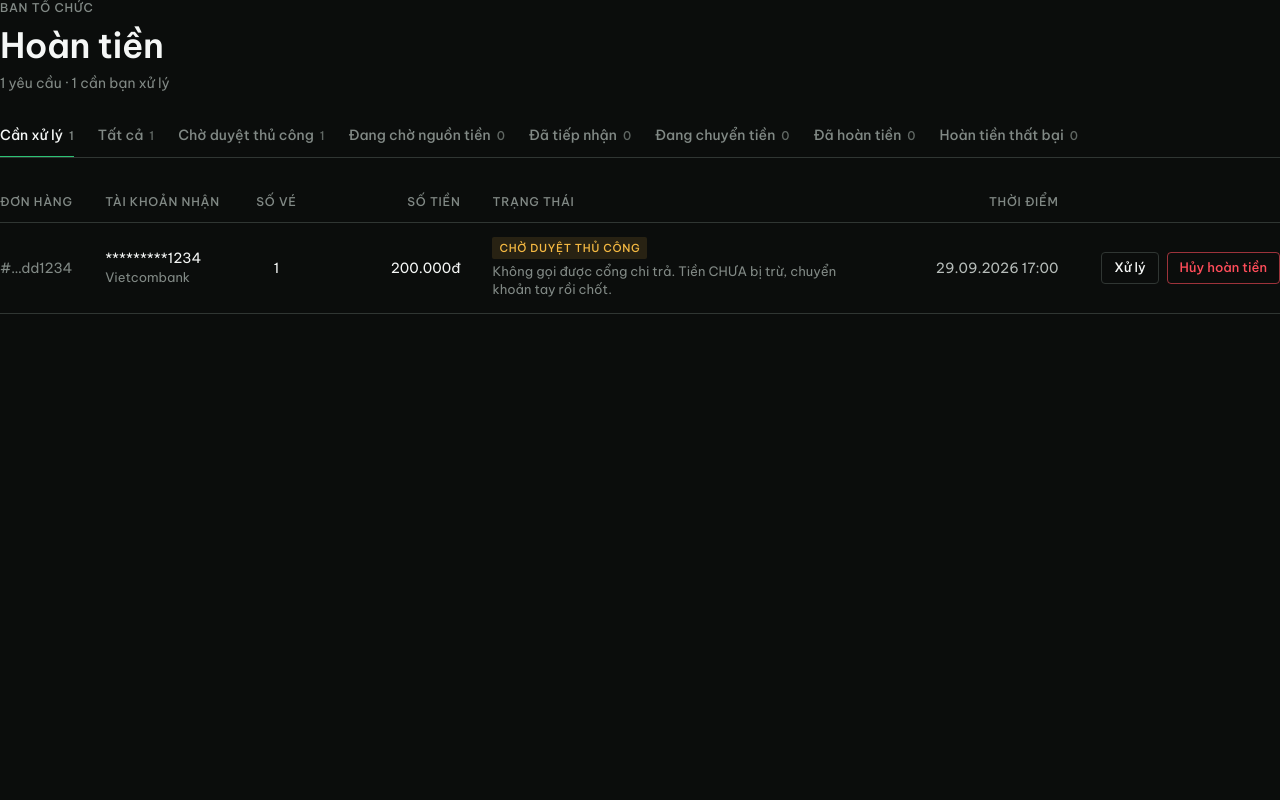
RefundsPage › refund chưa có tài khoản nhận: báo lỗi tử tế, vẫn chốt được
The image size is (1280, 800).
Click the button "Xử lý".
click(1130, 268)  # box top-left (1101, 252), bottom-right (1159, 284)
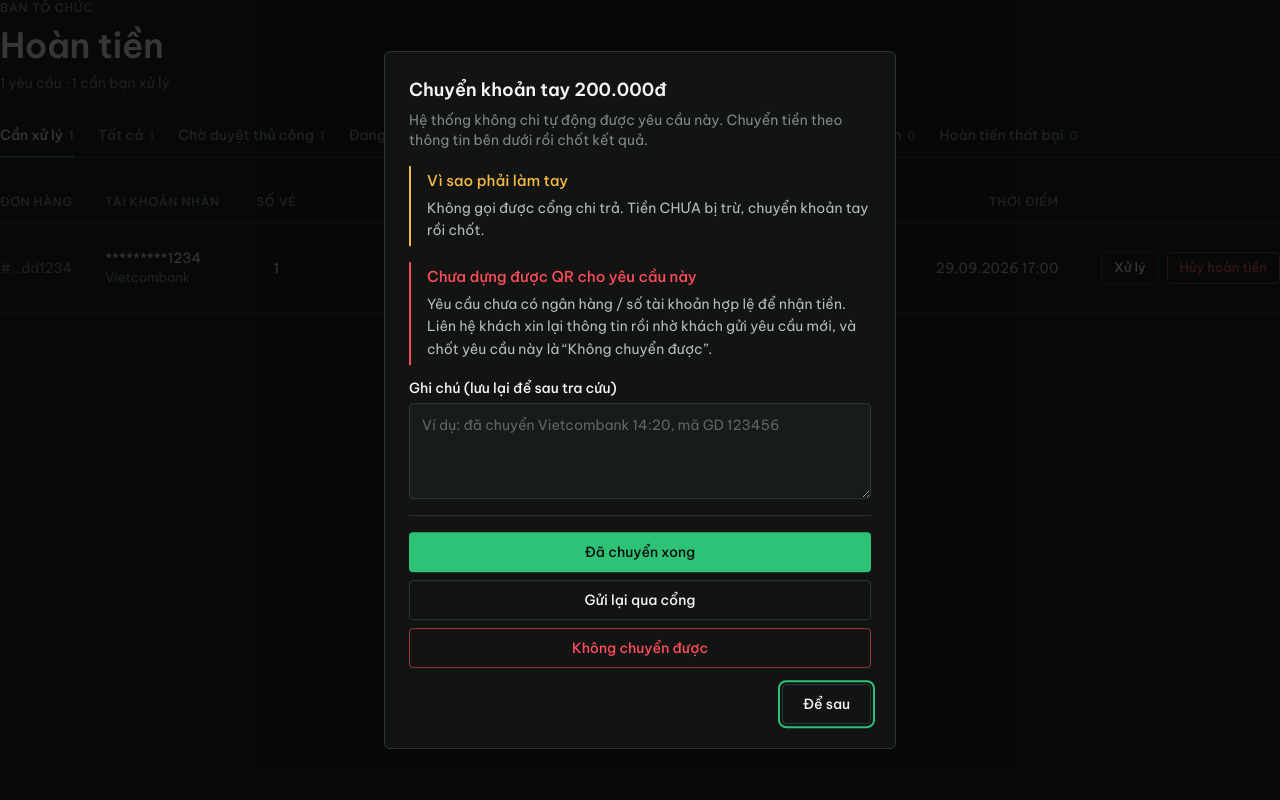
expect the text "Chưa dựng được QR cho yêu cầu này" is shown: met, box top-left (427, 267), bottom-right (697, 286)
expect the button "Không chuyển được" is shown: met, box top-left (409, 628), bottom-right (871, 668)
